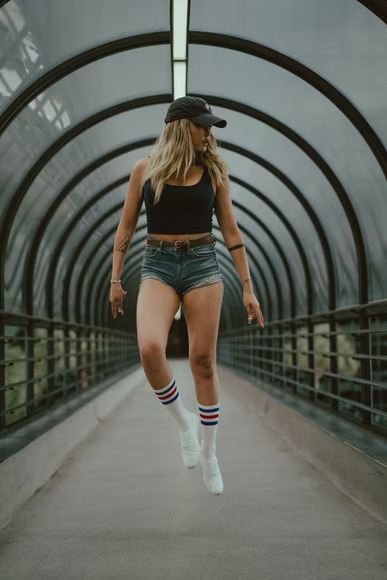person: (109, 97, 264, 495)
